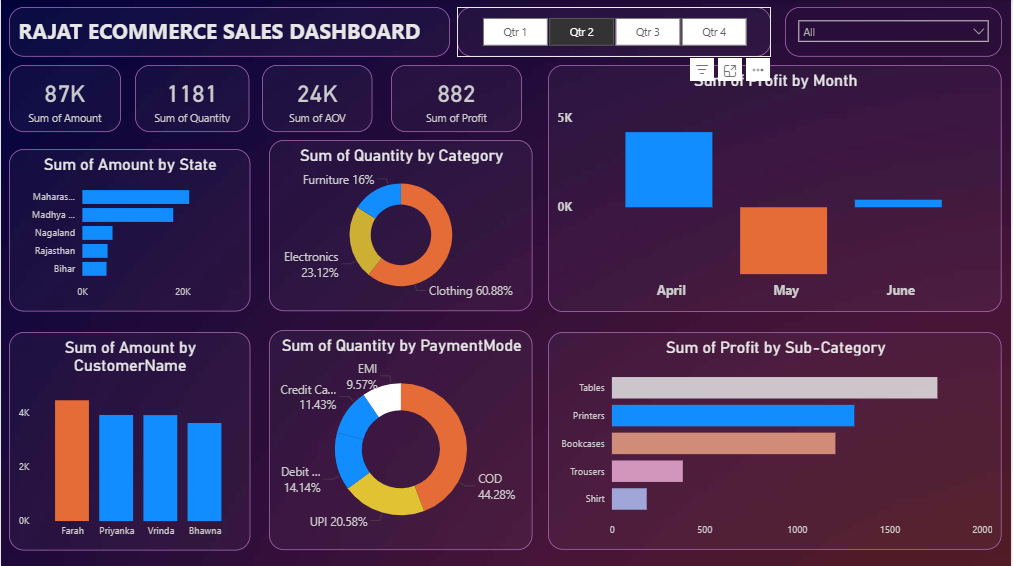

What the dashboard file says about the page in this screenshot:
{"tool":"powerbi","page":{"name":"Page 1","canvas":[1280,720],"ordinal":0},"visuals":[{"type":"textbox","box":[10.1,10.1,559,63.4],"z":0},{"type":"columnChart","fields":{"Category":["Orders.Order Date.Variation.Date Hierarchy.Month"],"Y":["Details.Profit"]},"box":[693.1,83.6,575.4,313.2],"z":1000},{"type":"donutChart","fields":{"Category":["Details.Category"],"Y":["Details.Quantity"]},"box":[340,178.9,334.5,217.5],"z":2000},{"type":"barChart","fields":{"Category":["Details.Sub-Category"],"Y":["Details.Profit"]},"box":[693.1,422.4,575.4,276.4],"z":3000},{"type":"donutChart","fields":{"Y":["Details.Quantity"],"Category":["Details.PaymentMode"]},"box":[340,419.8,334.5,279.4],"z":4000},{"type":"card","fields":{"Values":["Details.Amount"]},"box":[9.9,83.6,141.7,85],"z":5000},{"type":"card","fields":{"Values":["Details.Quantity"]},"box":[170.1,83.6,144.6,85],"z":6000},{"type":"card","fields":{"Values":["Details.Profit"]},"box":[494.6,83.6,165.8,85],"z":7000},{"type":"card","fields":{"Values":["Details.AOV"]},"box":[330.2,83.6,140.3,85],"z":8000},{"type":"clusteredBarChart","fields":{"Category":["Orders.State"],"Y":["Details.Amount"]},"box":[9.6,189.9,305.5,206.5],"z":9000},{"type":"columnChart","fields":{"Category":["Orders.CustomerName"],"Y":["Details.Amount"]},"box":[9.6,422.5,305.5,276.6],"z":10000},{"type":"slicer","fields":{"Values":["Orders.Order Date.Variation.Date Hierarchy.Quarter"]},"box":[578,10.1,398,63.4],"z":11000},{"type":"slicer","fields":{"Values":["Orders.State"]},"box":[993.8,10.1,275.1,63.4],"z":12000}]}

Visuals, with their boxes in screenshot pixels (x1, y1, x2, y2), scaled from the page's 1280x720 canvas onto the 1013x566 screenshot:
textbox: (8,8,450,58)
columnChart - Orders.Order Date.Variation.Date Hierarchy.Month x Details.Profit: (549,66,1004,312)
donutChart - Details.Category x Details.Quantity: (269,141,534,312)
barChart - Details.Sub-Category x Details.Profit: (549,332,1004,549)
donutChart - Details.Quantity x Details.PaymentMode: (269,330,534,550)
card - Details.Amount: (8,66,120,133)
card - Details.Quantity: (135,66,249,133)
card - Details.Profit: (391,66,523,133)
card - Details.AOV: (261,66,372,133)
clusteredBarChart - Orders.State x Details.Amount: (8,149,249,312)
columnChart - Orders.CustomerName x Details.Amount: (8,332,249,550)
slicer - Orders.Order Date.Variation.Date Hierarchy.Quarter: (457,8,772,58)
slicer - Orders.State: (786,8,1004,58)
